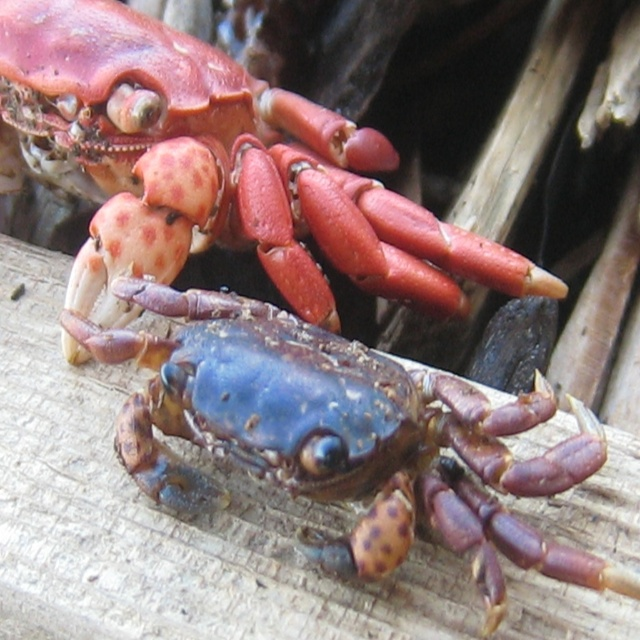Crab: (61, 262, 640, 640), (0, 0, 570, 365)
